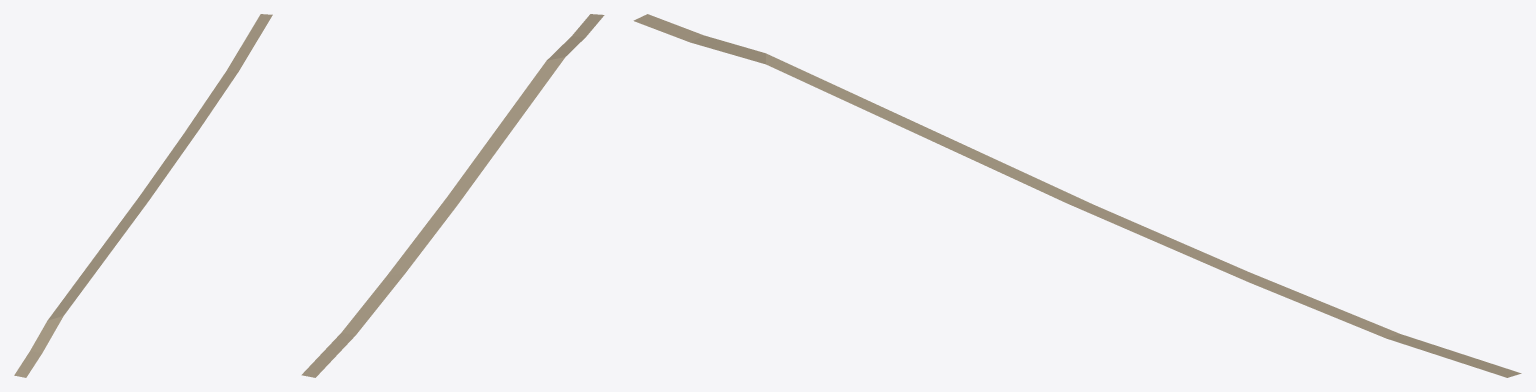
File: farm_-1_12_track.glb
3 views of the same model, side by side, from view 1: azimuth 30°, elevation 25°; view 2: azimuth 210°, elevation 25°; view 3: azimuth 270°, elevation 25° (orthographic). The views are drawn at different scales.
Visible parts, largest first — view 1: geometry_0; view 2: geometry_0; view 3: geometry_0.
Boxes of the visible parts, x1,y1,x2,y2 form: geometry_0: [14, 14, 272, 377]; geometry_0: [301, 14, 604, 377]; geometry_0: [633, 14, 1521, 377].
Size of the model in its own units: 159 by 7.79 by 147.
